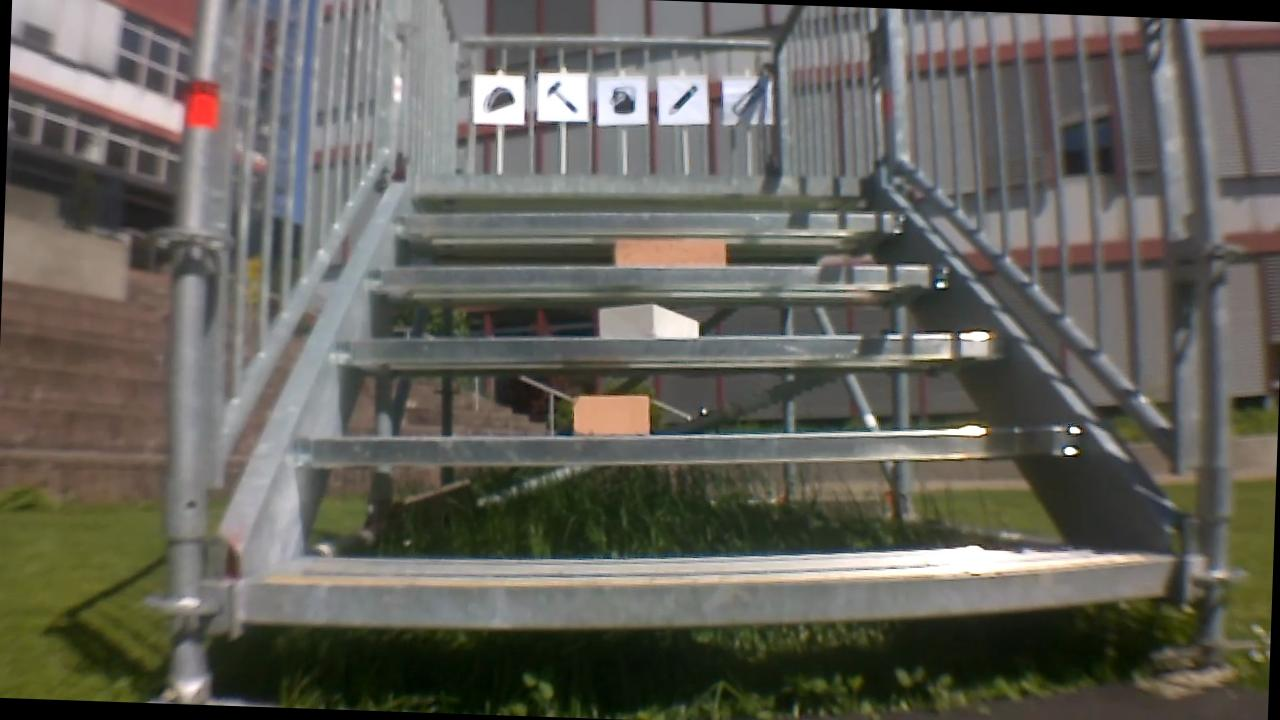brick: (601, 299, 707, 339), (613, 235, 728, 271), (572, 388, 654, 437)
edge: (232, 526, 1201, 669), (283, 397, 1082, 495), (333, 308, 1004, 385), (367, 240, 959, 315), (388, 193, 909, 254), (414, 159, 868, 210)
steps: (234, 158, 1184, 646)
